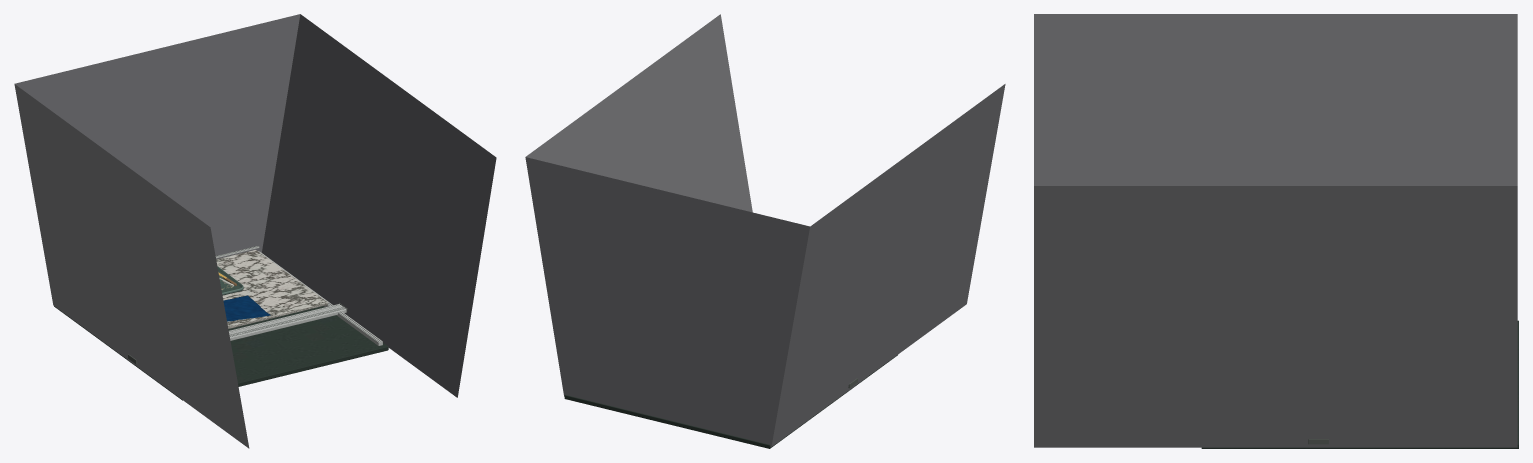
Rendered from codex.glb.
3 renders of one model, left to right at view 1: azimuth 30°, elevation 25°; view 2: azimuth 150°, elevation 25°; view 3: azimuth 270°, elevation 25°, orthographic. The views are drawn at different scales.
Visible parts, largest first — view 1: Side wall.001, Side wall, Back wall, Green floor below slab, Polished rectangular marble board, Front crossbar aluminum extrusion, Folded blue napkin fabric layer.001; view 2: Back wall, Side wall, Side wall.001, Green floor below slab; view 3: Side wall.001, Side wall, Green floor below slab.
Boxes of the visible parts, x1,y1,x2,y2 form: Side wall.001: [262, 14, 496, 397]; Side wall: [14, 84, 249, 448]; Back wall: [14, 14, 300, 259]; Green floor below slab: [54, 306, 388, 400]; Polished rectangular marble board: [216, 250, 327, 328]; Front crossbar aluminum extrusion: [229, 304, 346, 340]; Folded blue napkin fabric layer.001: [223, 295, 270, 321]; Back wall: [525, 157, 809, 446]; Side wall: [771, 84, 1005, 446]; Side wall.001: [526, 14, 752, 212]; Green floor below slab: [564, 355, 897, 448]; Side wall.001: [1034, 186, 1517, 447]; Side wall: [1034, 14, 1517, 185]; Green floor below slab: [1201, 320, 1518, 448].
Size of the model in its own units: 2.72 by 2.12 by 3.24.
339 materials, 322 textured.
